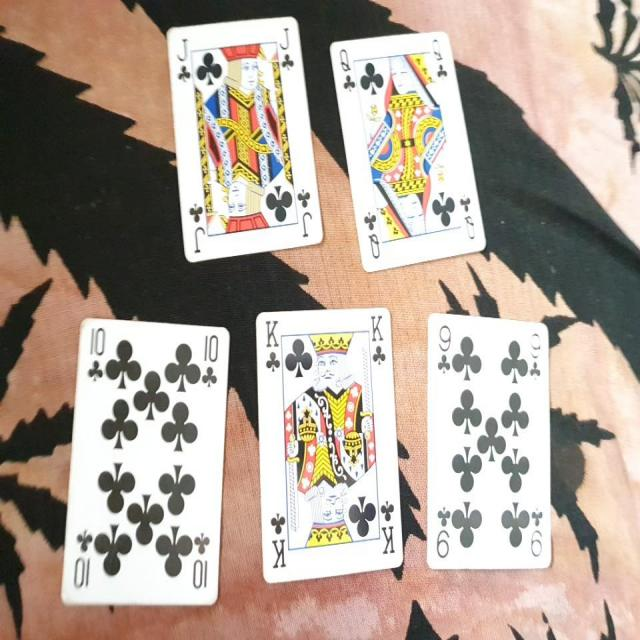10 Trefoils: (58, 314, 232, 613)
9 Trefoils: (426, 308, 554, 570)
J Trefoils: (165, 10, 324, 263)
K Trefoils: (252, 305, 404, 581)
Q Trefoils: (327, 27, 487, 274)
